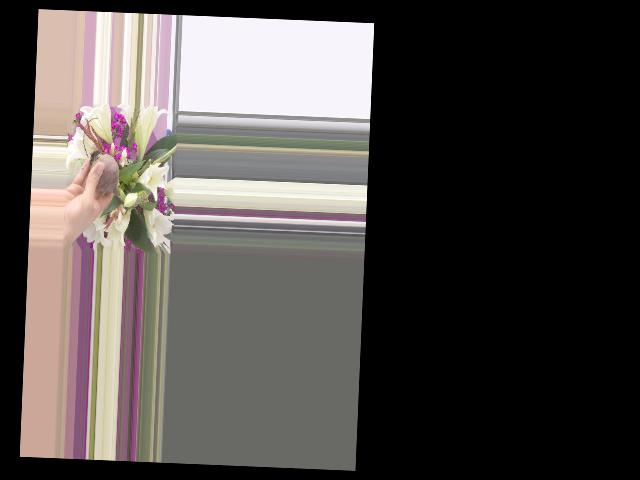beet: (87, 149, 127, 203)
